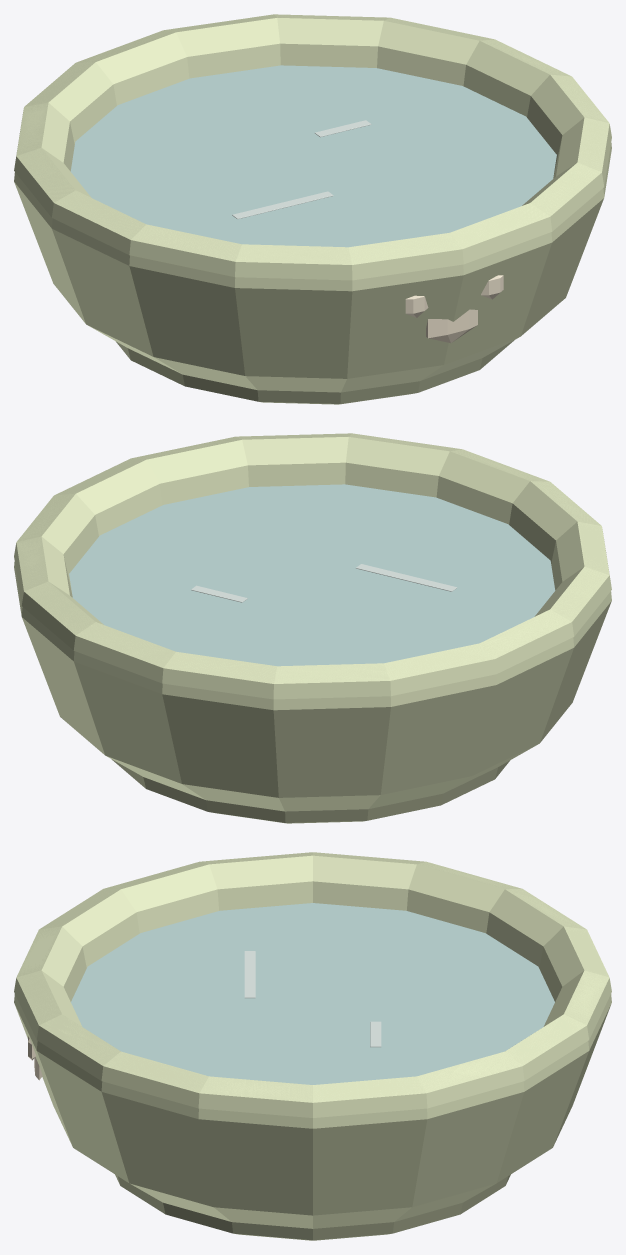
File: crafted-cat-water-4-2.glb
3 views of the same model, one above another, from view 1: azimuth 30°, elevation 25°; view 2: azimuth 150°, elevation 25°; view 3: azimuth 270°, elevation 25° (orthographic).
Visible parts, largest first — view 1: ceramic-bowl, water-level, glazed-rim, foot-ring, paw-pad, water-glint; view 2: ceramic-bowl, water-level, glazed-rim, foot-ring, water-glint; view 3: ceramic-bowl, water-level, glazed-rim, foot-ring, water-glint.
Boxes of the visible parts, <box> form: ceramic-bowl: <box>14,14,611,392</box>; water-level: <box>70,65,556,247</box>; glazed-rim: <box>14,14,611,280</box>; foot-ring: <box>116,340,514,404</box>; paw-pad: <box>426,309,477,343</box>; water-glint: <box>232,191,333,219</box>; ceramic-bowl: <box>14,433,611,811</box>; water-level: <box>69,484,555,666</box>; glazed-rim: <box>14,433,611,699</box>; foot-ring: <box>111,759,509,823</box>; water-glint: <box>356,564,457,591</box>; ceramic-bowl: <box>14,852,611,1228</box>; water-level: <box>71,903,554,1084</box>; glazed-rim: <box>14,852,611,1117</box>; foot-ring: <box>115,1174,510,1240</box>; water-glint: <box>244,951,255,998</box>.
Bounding box in the file's own units: 0.76 × 0.265 × 0.76.
